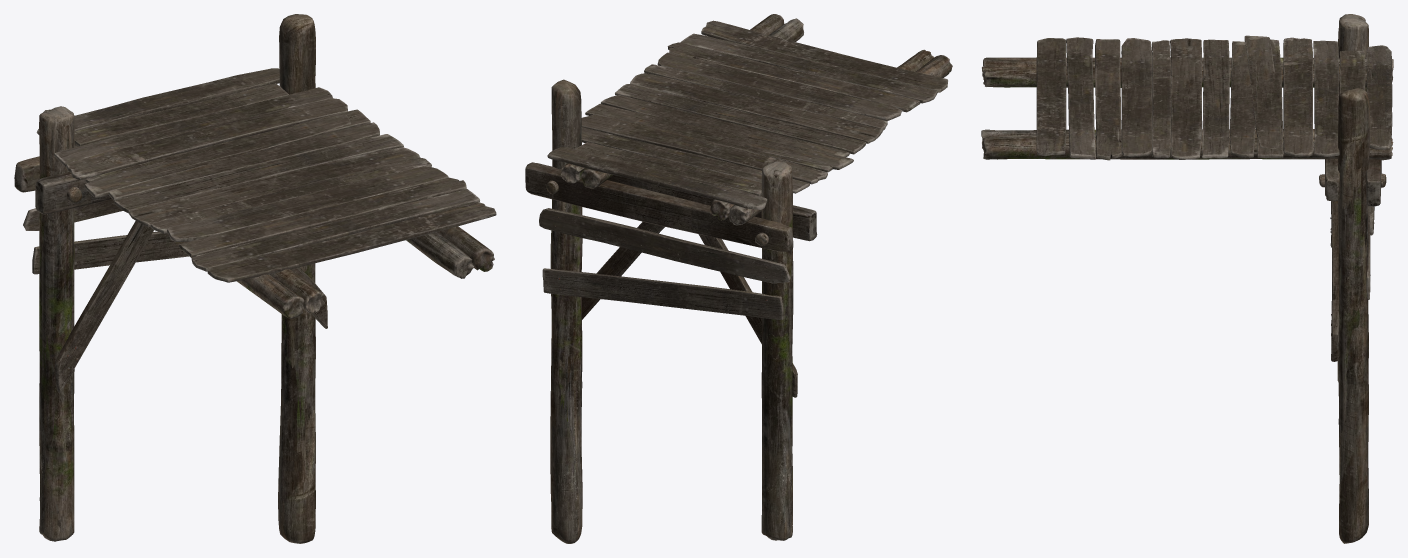
File: pier.glb
3 views of the same model, side by side, from view 1: azimuth 30°, elevation 25°; view 2: azimuth 150°, elevation 25°; view 3: azimuth 270°, elevation 25° (orthographic). The views are drawn at different scales.
Visible parts, largest first — view 1: modular_wooden_pier_section_03, modular_wooden_pier_section_02; view 2: modular_wooden_pier_section_02, modular_wooden_pier_section_03; view 3: modular_wooden_pier_section_02, modular_wooden_pier_section_03.
Part boxes in pixels (x1,y1,x2,y2): modular_wooden_pier_section_03: (15, 14, 496, 541); modular_wooden_pier_section_02: (14, 70, 492, 543); modular_wooden_pier_section_02: (525, 18, 947, 543); modular_wooden_pier_section_03: (528, 14, 952, 540); modular_wooden_pier_section_02: (981, 14, 1392, 543); modular_wooden_pier_section_03: (982, 16, 1393, 506).
Size of the model in its own units: 2.51 by 4.1 by 3.4.
Materials: 2 (2 with a texture image).
